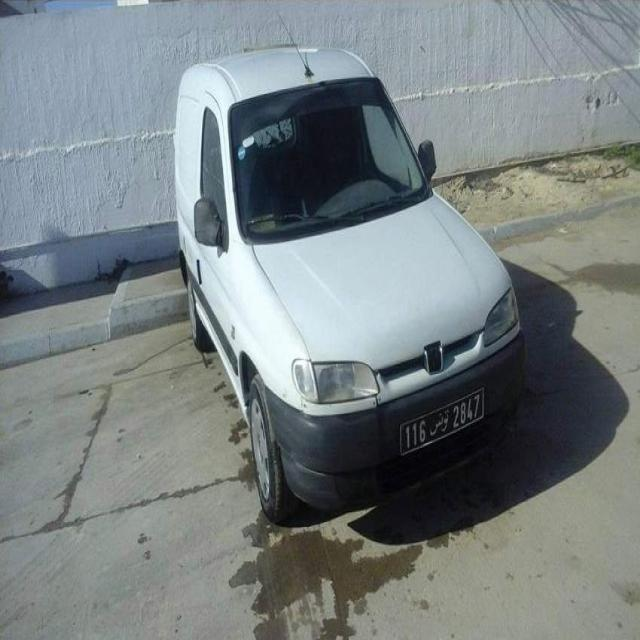licence plate: (401, 389, 484, 456)
